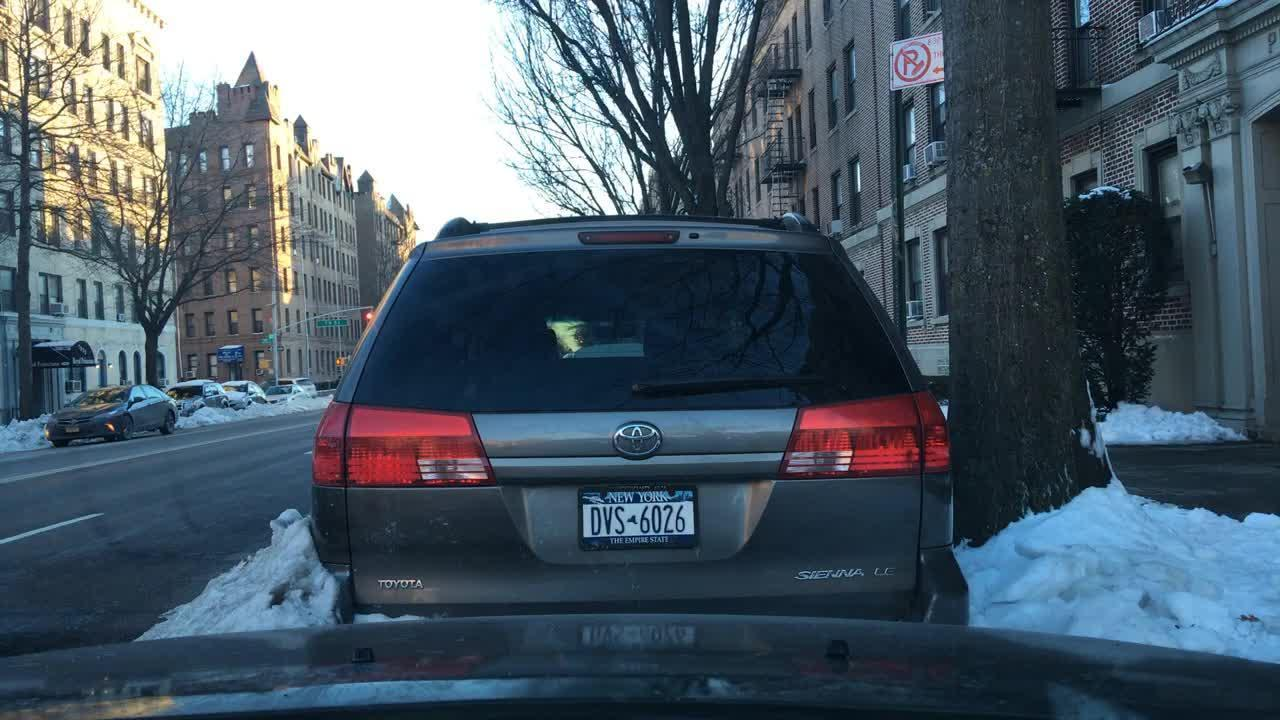Toyota: (600, 415, 681, 466)
